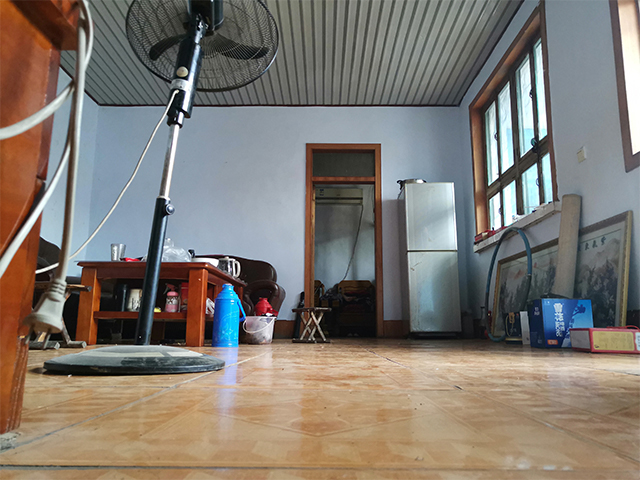stool: (315, 274, 375, 335), (291, 306, 335, 345)
table: (74, 258, 247, 347)
trashcan: (241, 315, 278, 345)
